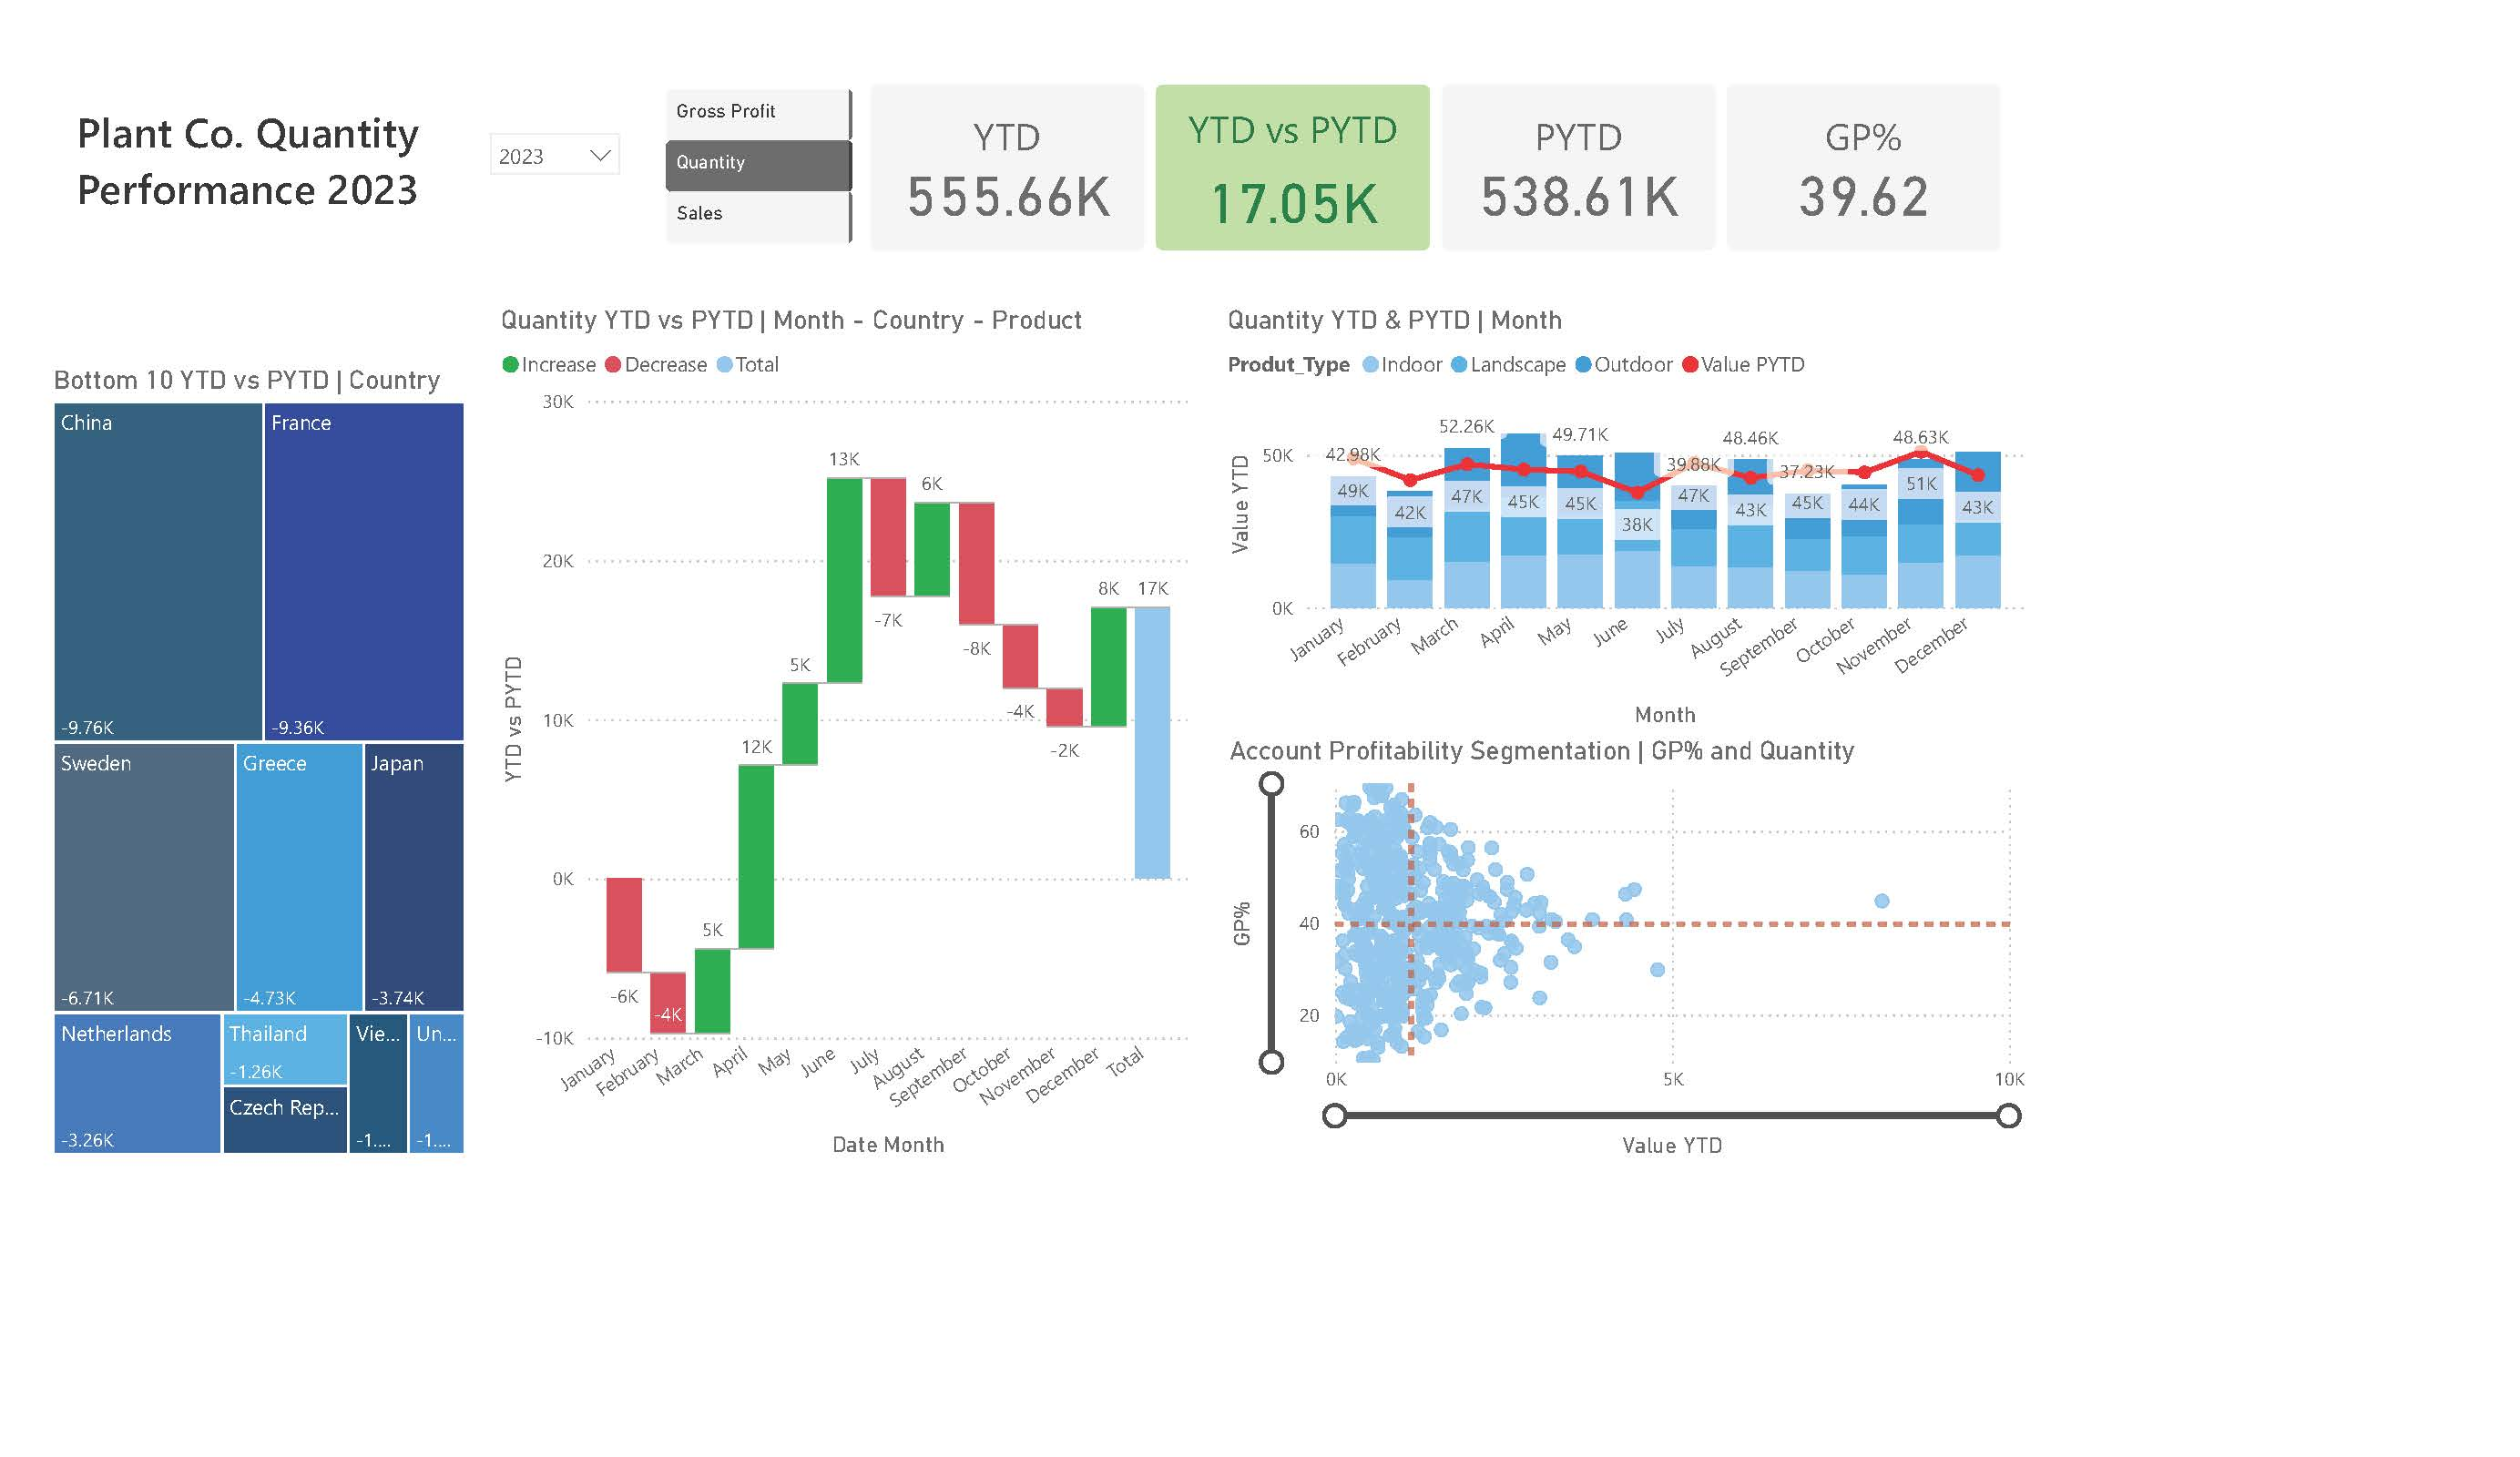

The page's visual inventory and layout, read from the dashboard file:
{"tool":"powerbi","page":{"name":"Performance Report","canvas":[1280,720],"ordinal":0},"visuals":[{"type":"cardVisual","fields":{"Data":["Measure.S_YTD","Measure.YTD vs PYTD","Measure.S_PYTD","Measure.GP%"]},"box":[514.7,8,765.3,140],"z":1000},{"type":"advancedSlicerVisual","fields":{"Values":["Slc_Values.Values"]},"box":[394.7,22.7,130.7,109.3],"z":2000},{"type":"slicer","title":"YTD","fields":{"Values":["Dim_Date.Date.Variation.Date Hierarchy.Year"]},"box":[276,46.7,104,60],"z":3000},{"type":"treemap","title":"Bottom 10 YTD vs PYTD | Country","fields":{"Values":["Measure.YTD vs PYTD"],"Group":["Dim_Account.country"]},"box":[0,205.5,275.7,514.5],"z":4000},{"type":"waterfallChart","fields":{"Y":["Measure.YTD vs PYTD"],"Category":["Dim_Date.Date.Variation.Date Hierarchy.Month","Dim_Account.country","Dim_Product.Produt_Type","Dim_Product.Product_Name"]},"box":[288,165.9,452.7,554.7],"z":5000},{"type":"lineStackedColumnComboChart","fields":{"Y":["Measure.S_YTD"],"Category":["Dim_Date.Date.Variation.Date Hierarchy.Quarter","Dim_Date.Date.Variation.Date Hierarchy.Month"],"Y2":["Measure.S_PYTD"],"Series":["Dim_Product.Produt_Type"]},"box":[757.3,165.9,522.7,277.3],"z":6000},{"type":"scatterChart","fields":{"Y":["Measure.GP%"],"X":["Measure.S_YTD"],"Category":["Dim_Account.Account"]},"box":[757.7,443.4,522.3,277.7],"z":7000},{"type":"cardVisual","fields":{"Data":["Measure._Report title"]},"box":[1.3,0,265.3,144],"z":8000}]}

Visuals, with their boxes on the page's 1280x720 design canvas (x1, y1, x2, y2). These are canvas units, not pixel positions in the 2520x1457 screenshot, which may show the page scaled, cropped or inside an application window:
cardVisual - Measure.S_YTD x Measure.YTD vs PYTD: <region>515, 8, 1280, 148</region>
advancedSlicerVisual - Slc_Values.Values: <region>395, 23, 525, 132</region>
"YTD" slicer: <region>276, 47, 380, 107</region>
"Bottom 10 YTD vs PYTD | Country" treemap: <region>0, 206, 276, 720</region>
waterfallChart - Measure.YTD vs PYTD x Dim_Date.Date.Variation.Date Hierarchy.Month: <region>288, 166, 741, 721</region>
lineStackedColumnComboChart - Measure.S_YTD x Dim_Date.Date.Variation.Date Hierarchy.Quarter: <region>757, 166, 1280, 443</region>
scatterChart - Measure.GP% x Measure.S_YTD: <region>758, 443, 1280, 721</region>
cardVisual - Measure._Report title: <region>1, 0, 267, 144</region>
